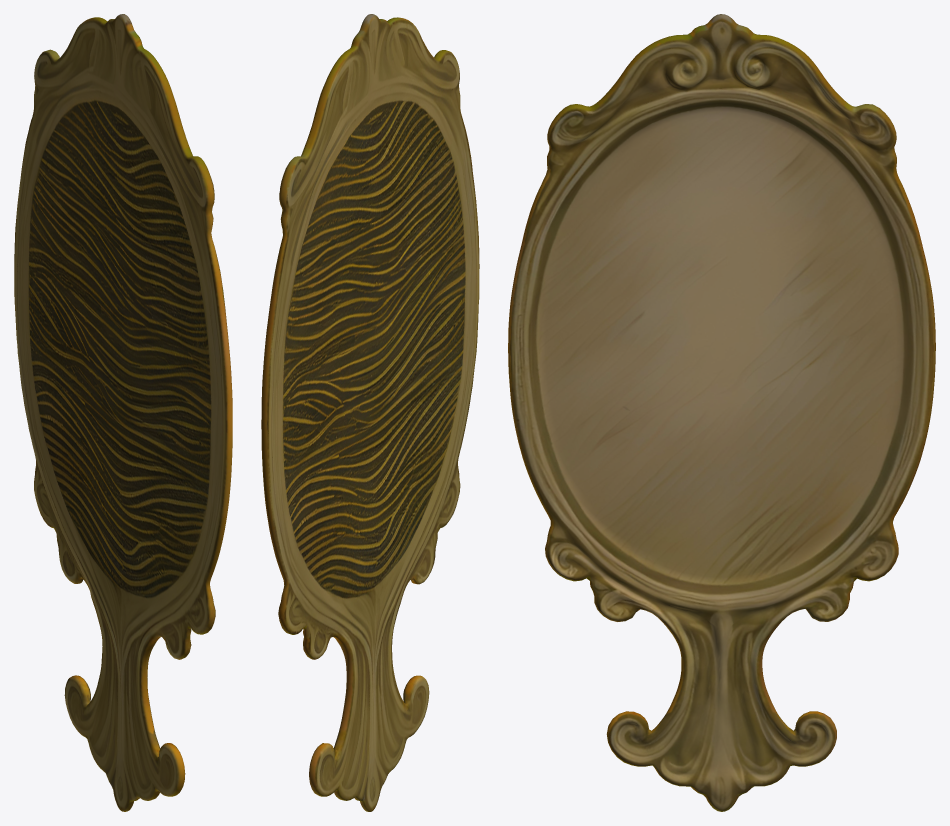
File: THE LIAR MIRROR.fbx
The picture shows the model from 3 angles, left to right: view 1: azimuth 30°, elevation 25°; view 2: azimuth 150°, elevation 25°; view 3: azimuth 270°, elevation 25°; orthographic projection.
Visible parts, largest first — view 1: tripo_node_054a266b; view 2: tripo_node_054a266b; view 3: tripo_node_054a266b.
Part boxes in pixels (x1,y1,x2,y2): tripo_node_054a266b: (14,14,232,811); tripo_node_054a266b: (261,14,479,811); tripo_node_054a266b: (508,14,935,811).
Bounding box in the file's own units: 1.54 × 99.96 × 48.63.
1 material, 1 textured.
